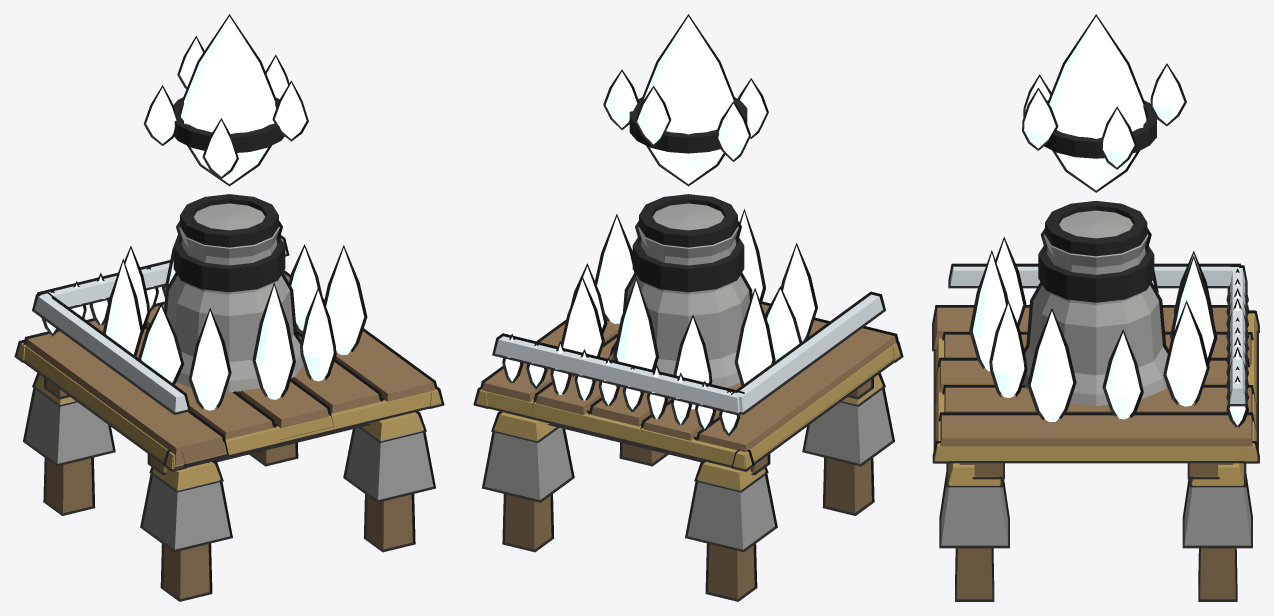
The model's file is Tier2_Frost.fbx.
3 views of the same model, side by side, from view 1: azimuth 30°, elevation 25°; view 2: azimuth 150°, elevation 25°; view 3: azimuth 270°, elevation 25° (orthographic). The views are drawn at different scales.
Parts seen in each view (by area): view 1: Prop_FrostOutpostT2, Prop_FrostCrystalT2; view 2: Prop_FrostOutpostT2, Prop_FrostCrystalT2; view 3: Prop_FrostOutpostT2, Prop_FrostCrystalT2.
Boxes of the visible parts, x1,y1,x2,y2 form: Prop_FrostOutpostT2: (14,194,444,601); Prop_FrostCrystalT2: (144,14,308,186); Prop_FrostOutpostT2: (473,194,903,601); Prop_FrostCrystalT2: (603,14,768,186); Prop_FrostOutpostT2: (932,201,1259,601); Prop_FrostCrystalT2: (1022,14,1186,192).
Bounding box in the file's own units: 116 × 206 × 116.
